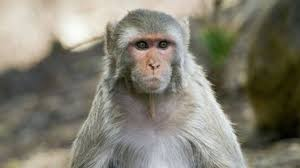monkey: (71, 10, 263, 167)
